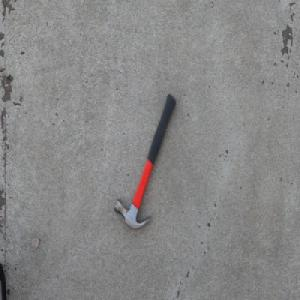Hammer: (113, 92, 176, 231)
